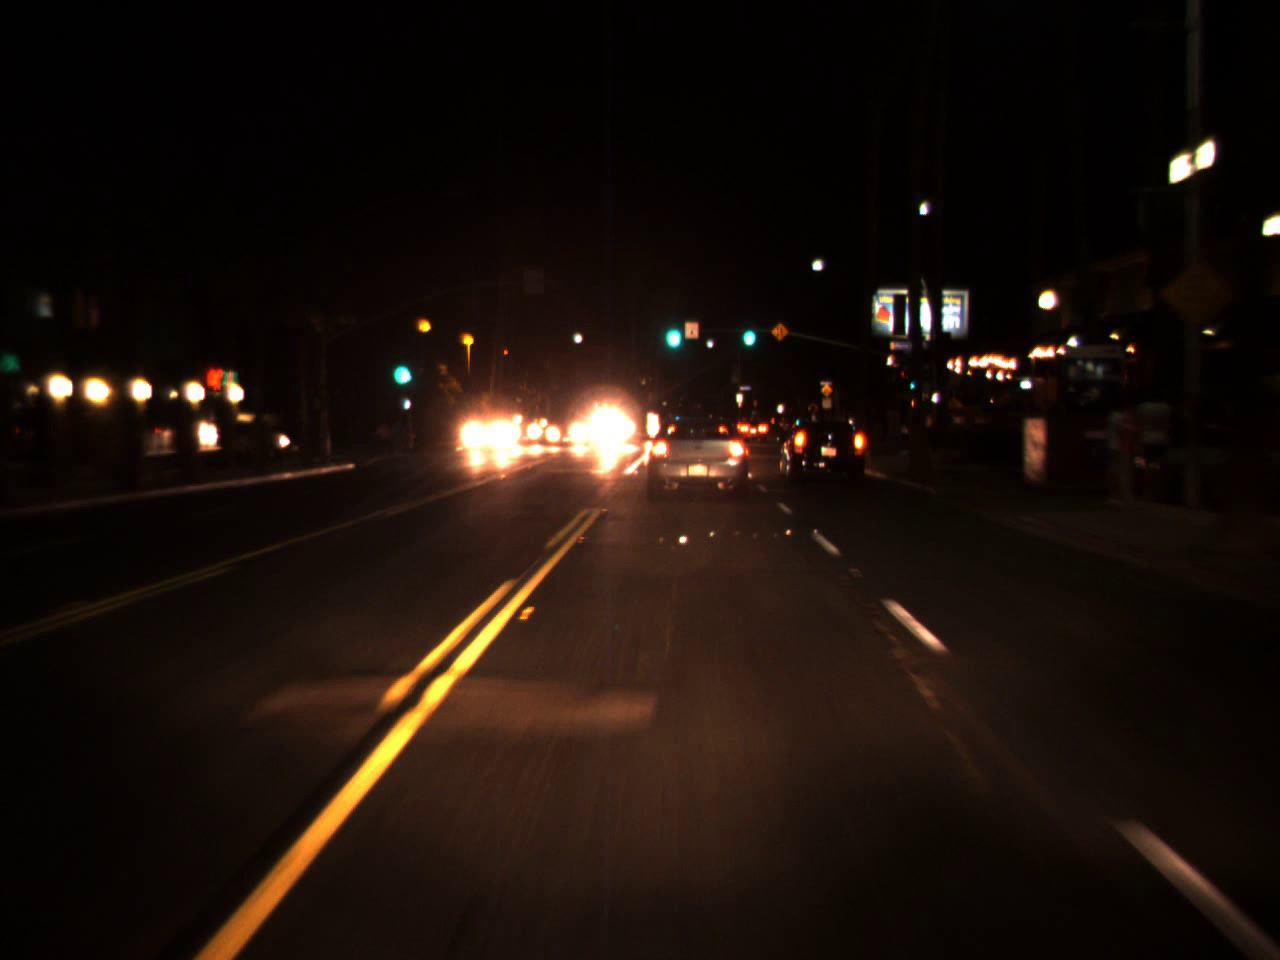go: (388, 341, 411, 392), (660, 304, 683, 355), (738, 317, 757, 347)
